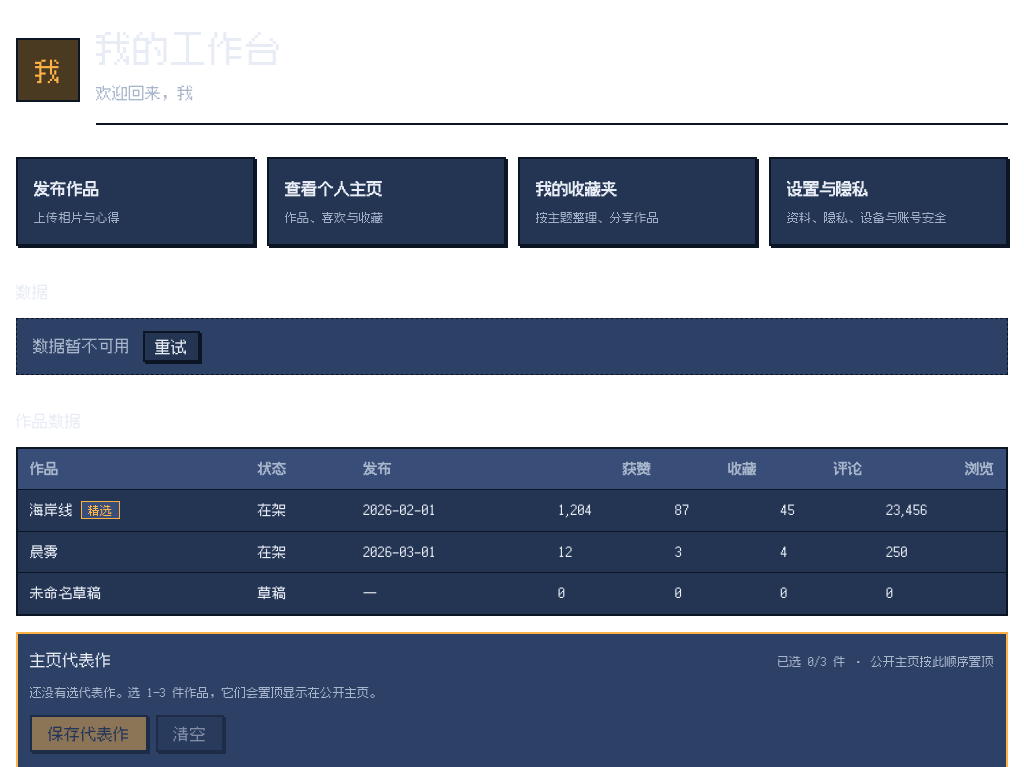
Test: /me 统计失败降级 › 降级提示带一个能重试的按钮
Step 1. Click the button "重试" → (171, 346), box [143,331,200,362]
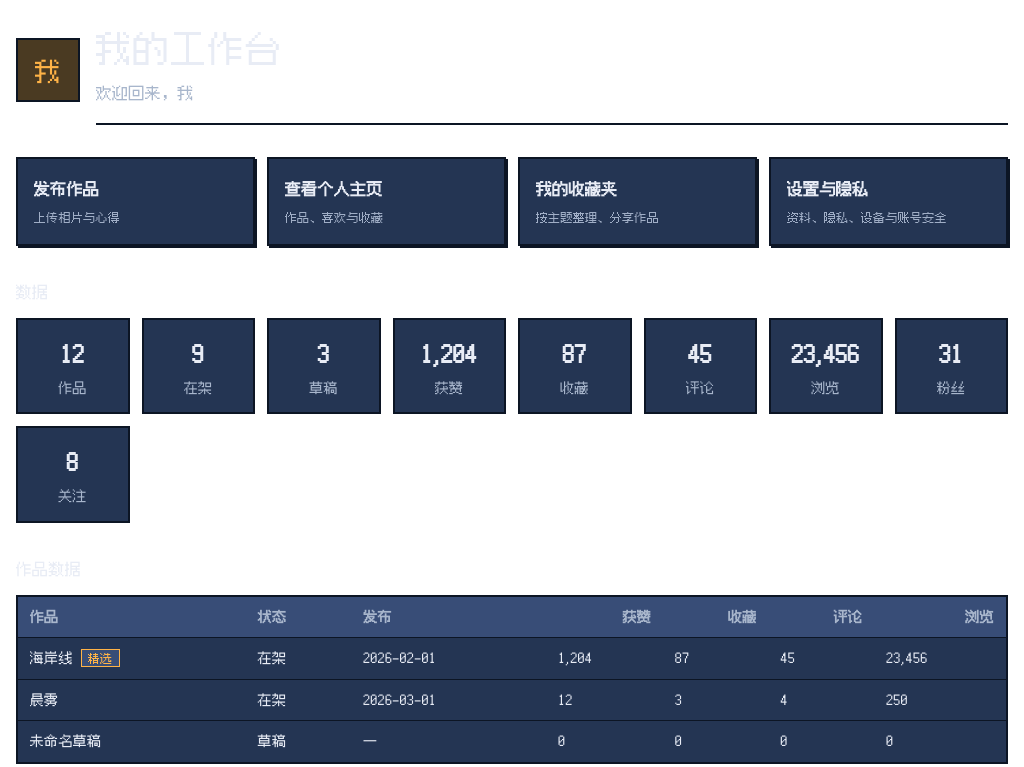
Expected: the text "23,456" is shown, [792,332,860,374]
